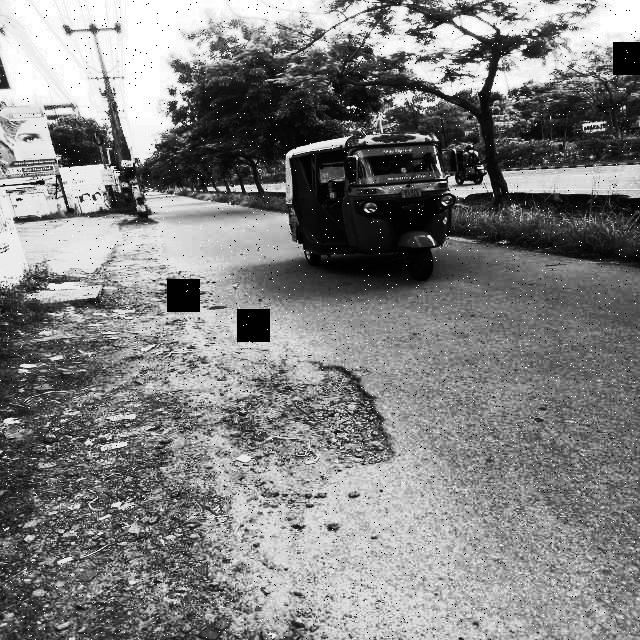Auto-Rickshaw: (276, 126, 464, 289)
